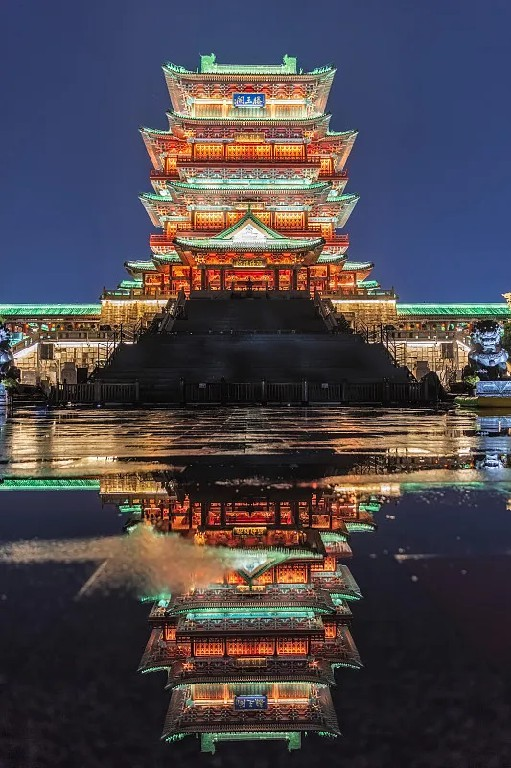Teng: (124, 52, 376, 300)
